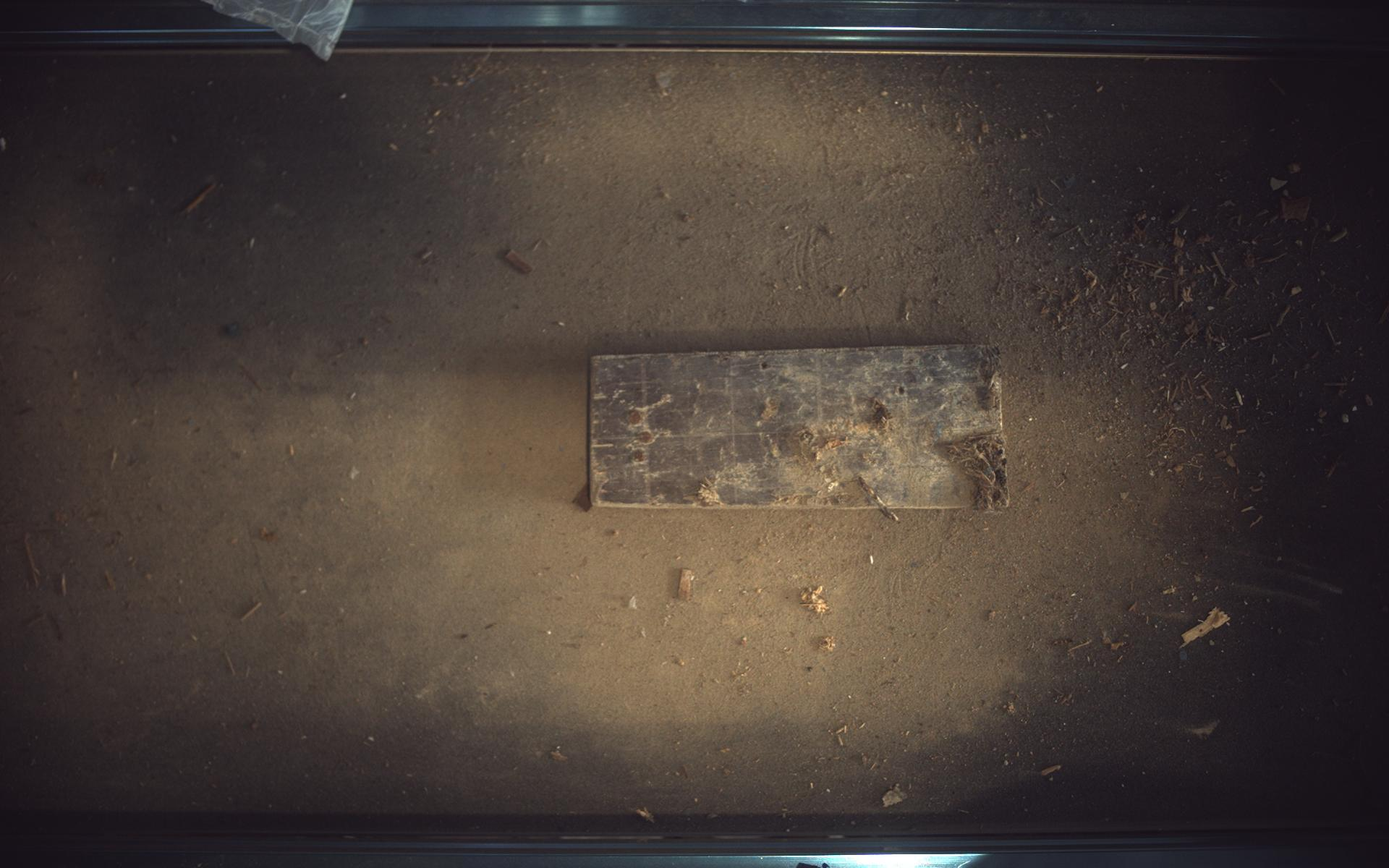wood: (590, 344, 1009, 516)
